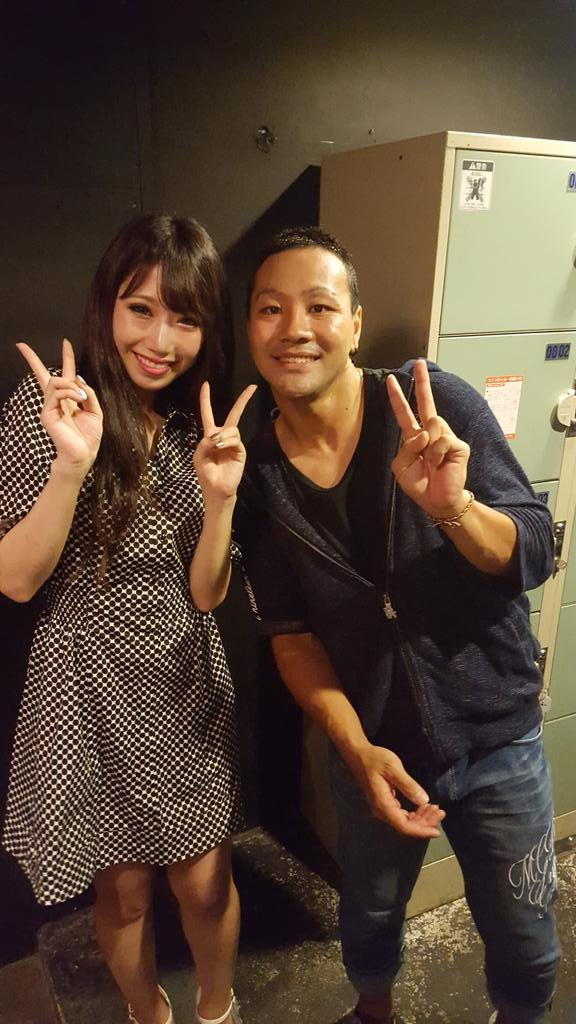face: (251, 248, 363, 396), (113, 258, 204, 387)
hand: (380, 358, 474, 502), (12, 338, 103, 470), (356, 747, 448, 840), (194, 381, 259, 499)
